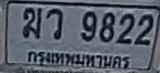2: (134, 14, 153, 44), (116, 12, 134, 43)
8: (99, 12, 114, 42)
9: (80, 10, 96, 41)
A06: (22, 6, 41, 37)
A37: (45, 8, 62, 39)
BKK: (24, 47, 132, 71)
